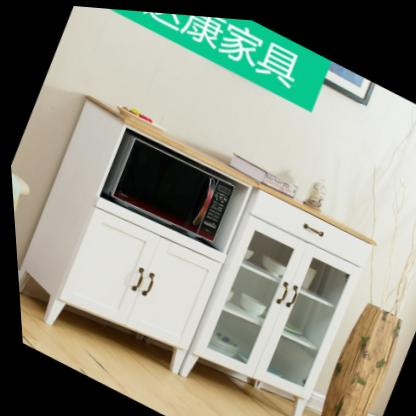Cupboard: (4, 81, 390, 416)
Wooden floor: (15, 293, 316, 416)
